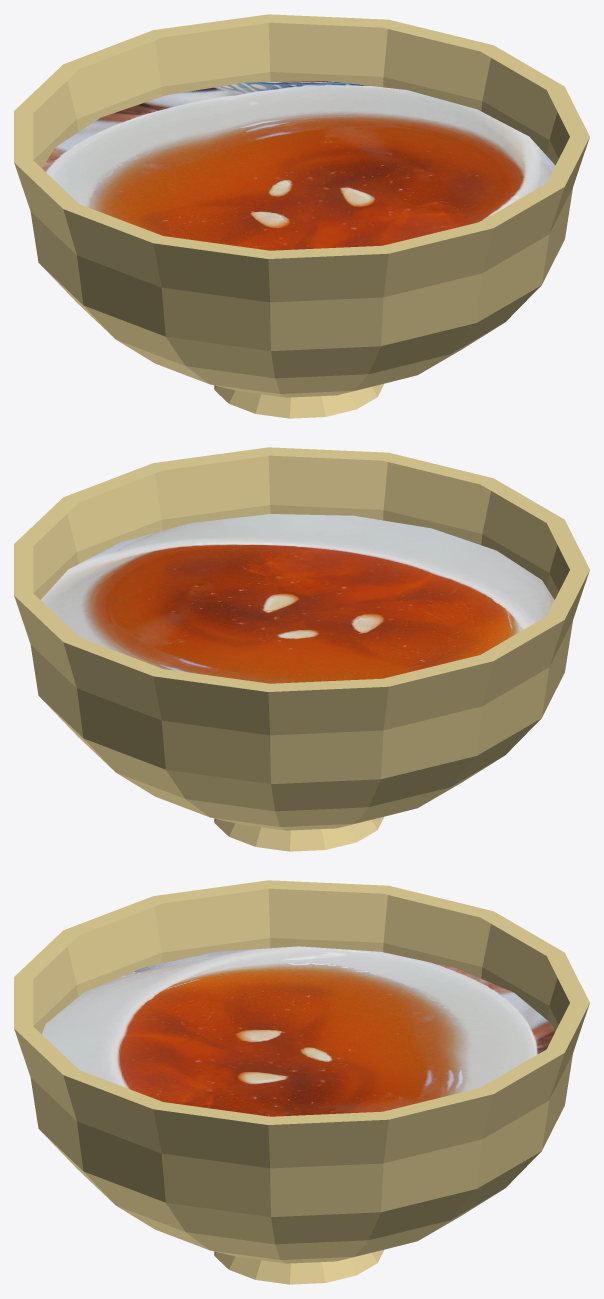
Rendered from 수정과_FBX.fbx.
3 views of the same model, one above another, from view 1: azimuth 30°, elevation 25°; view 2: azimuth 150°, elevation 25°; view 3: azimuth 270°, elevation 25° (orthographic).
Parts seen in each view (by area): view 1: dish, Sujeonggwa; view 2: dish, Sujeonggwa; view 3: dish, Sujeonggwa.
Part boxes in pixels (x1=…): dish: x1=14, y1=14, x2=589, y2=418; Sujeonggwa: x1=42, y1=81, x2=555, y2=250; dish: x1=14, y1=447, x2=589, y2=851; Sujeonggwa: x1=40, y1=514, x2=554, y2=683; dish: x1=14, y1=880, x2=589, y2=1284; Sujeonggwa: x1=42, y1=946, x2=554, y2=1116.
Bounding box in the file's own units: 181 × 87.32 × 180.
